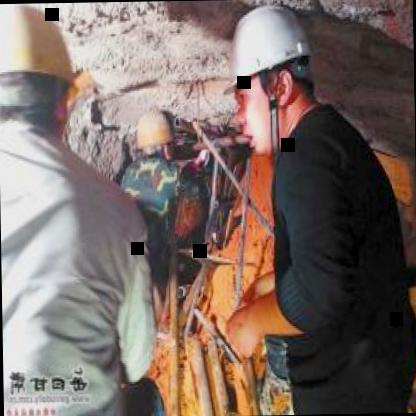helmet: (0, 4, 94, 153), (224, 0, 320, 140), (129, 108, 174, 162)
